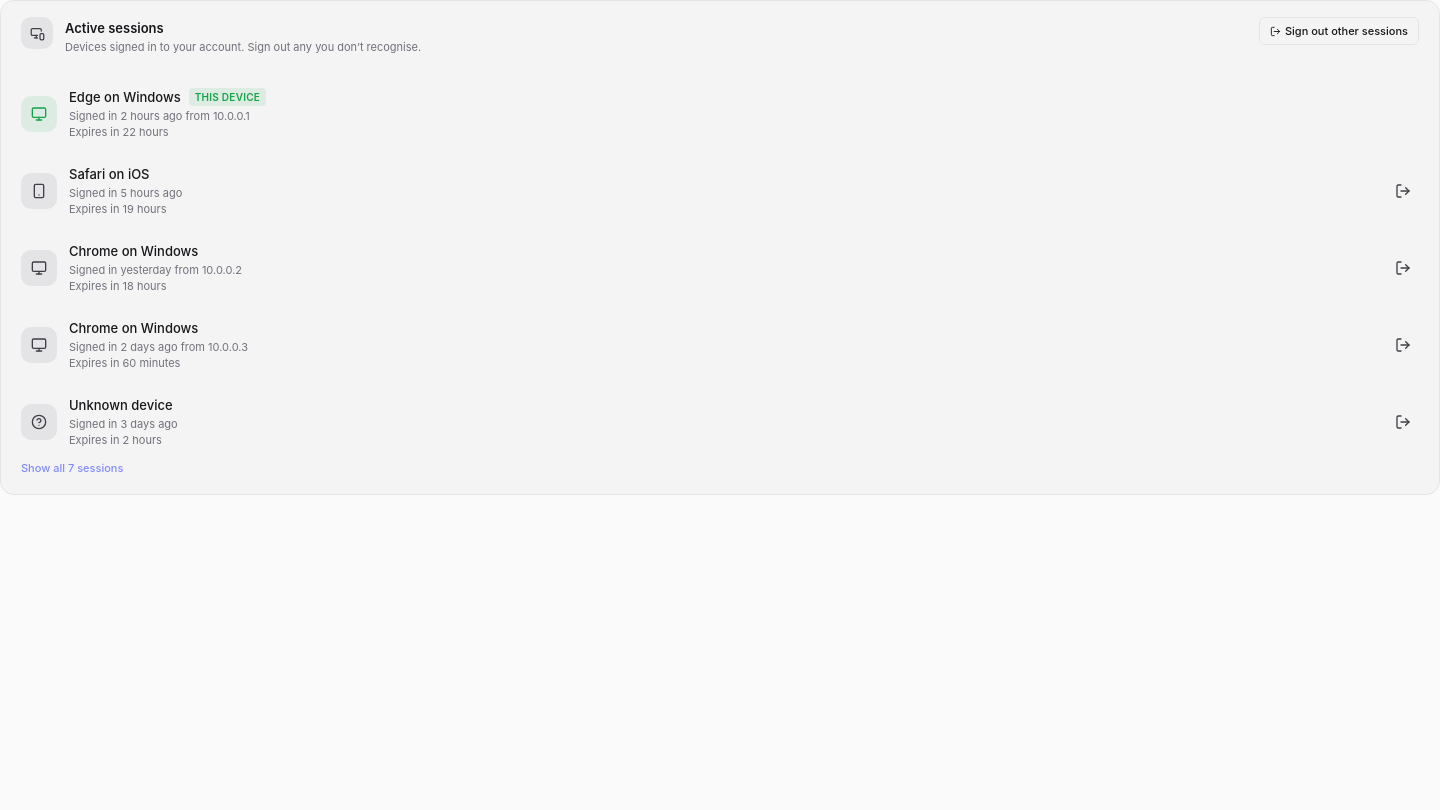
Scenario: ActiveSessionsSection › a cancelled confirmation revokes nothing
Click the button named "Sign out Safari on iOS": (1403, 191) [1387,175,1419,207]
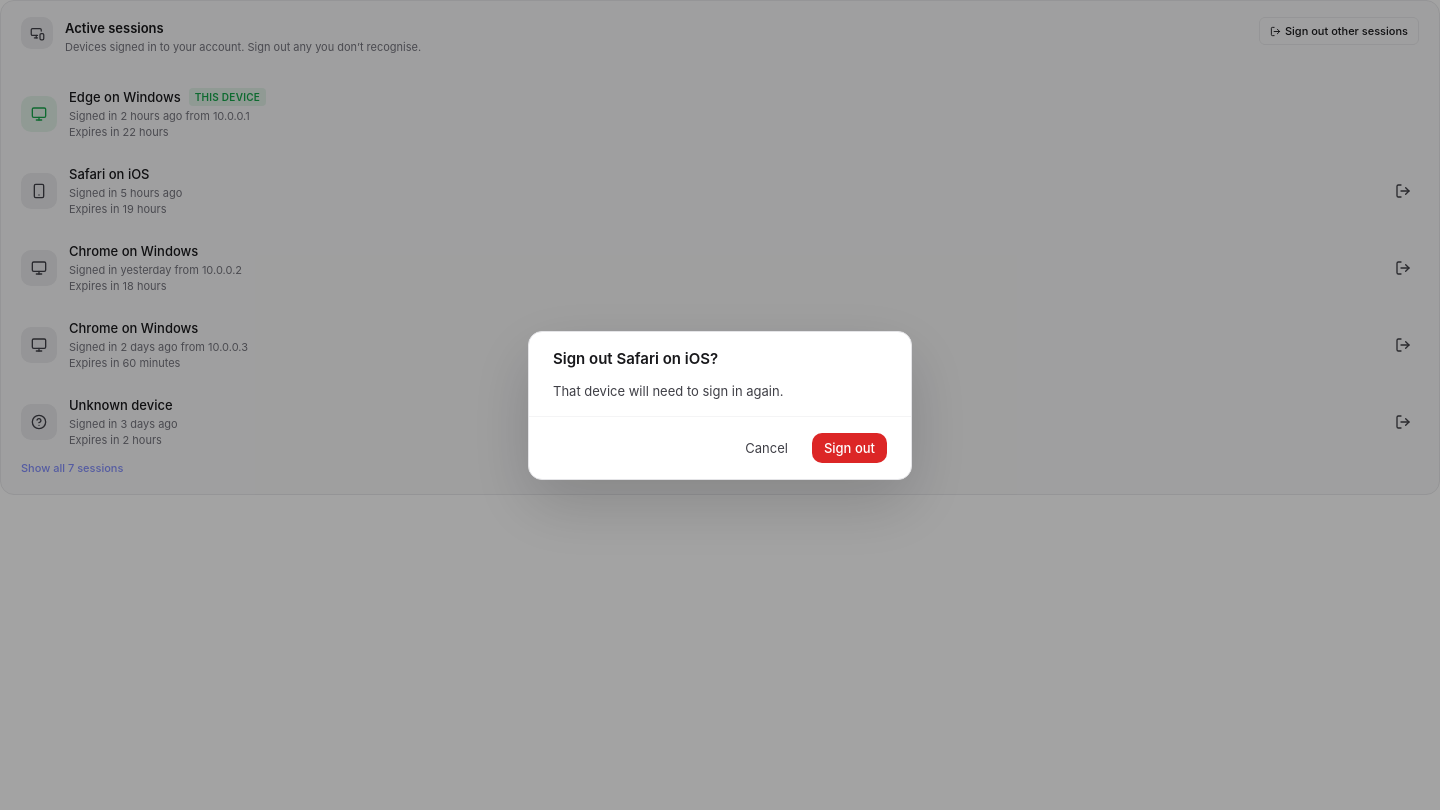
Click the button "Cancel": (766, 448) [733,432,800,462]
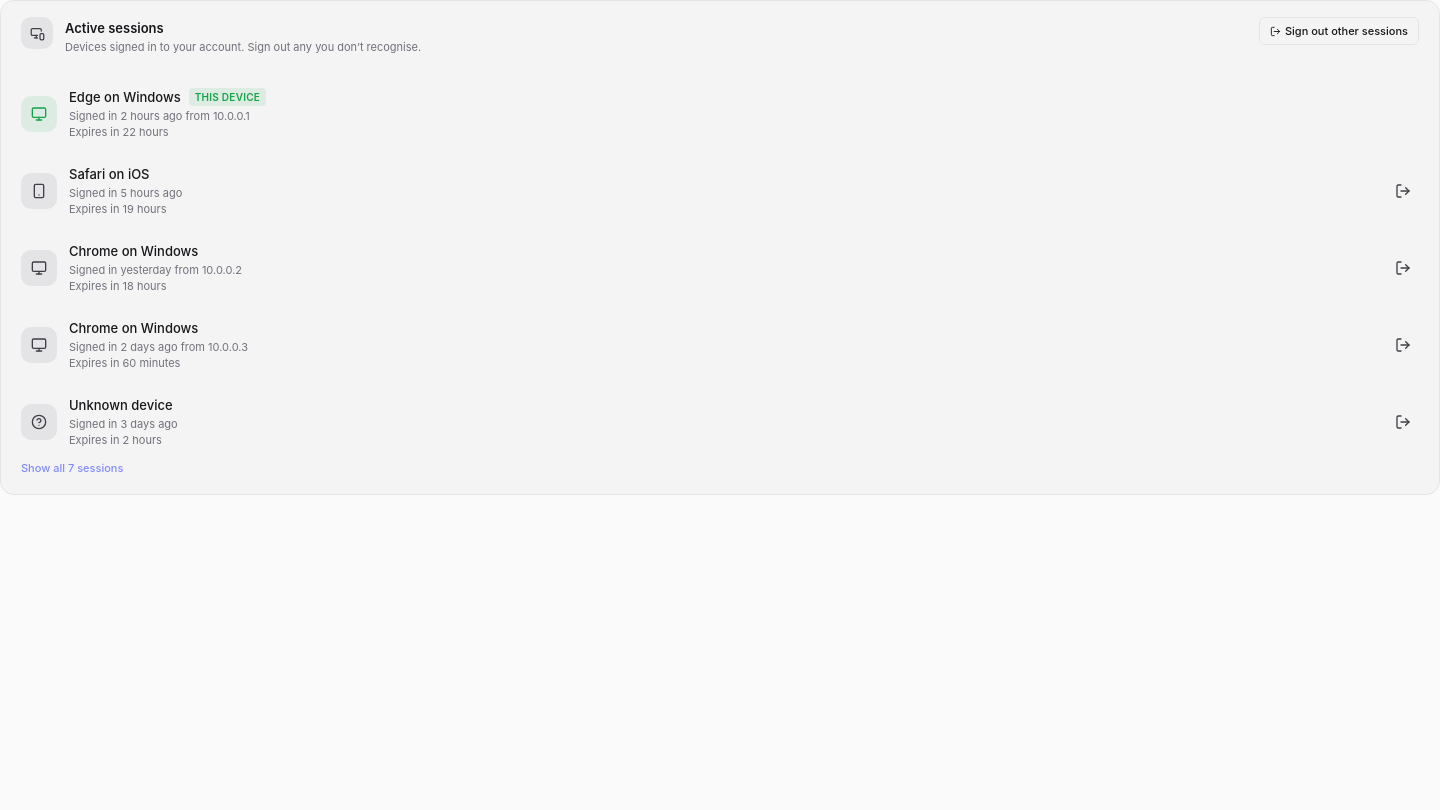
Expected: the dialog is gone
